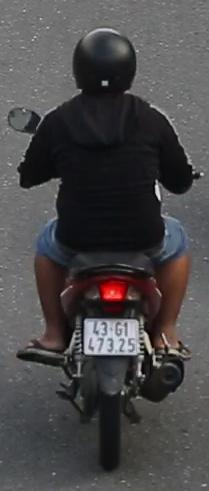LP: (82, 313, 141, 357)
helmet: (70, 24, 140, 106)
